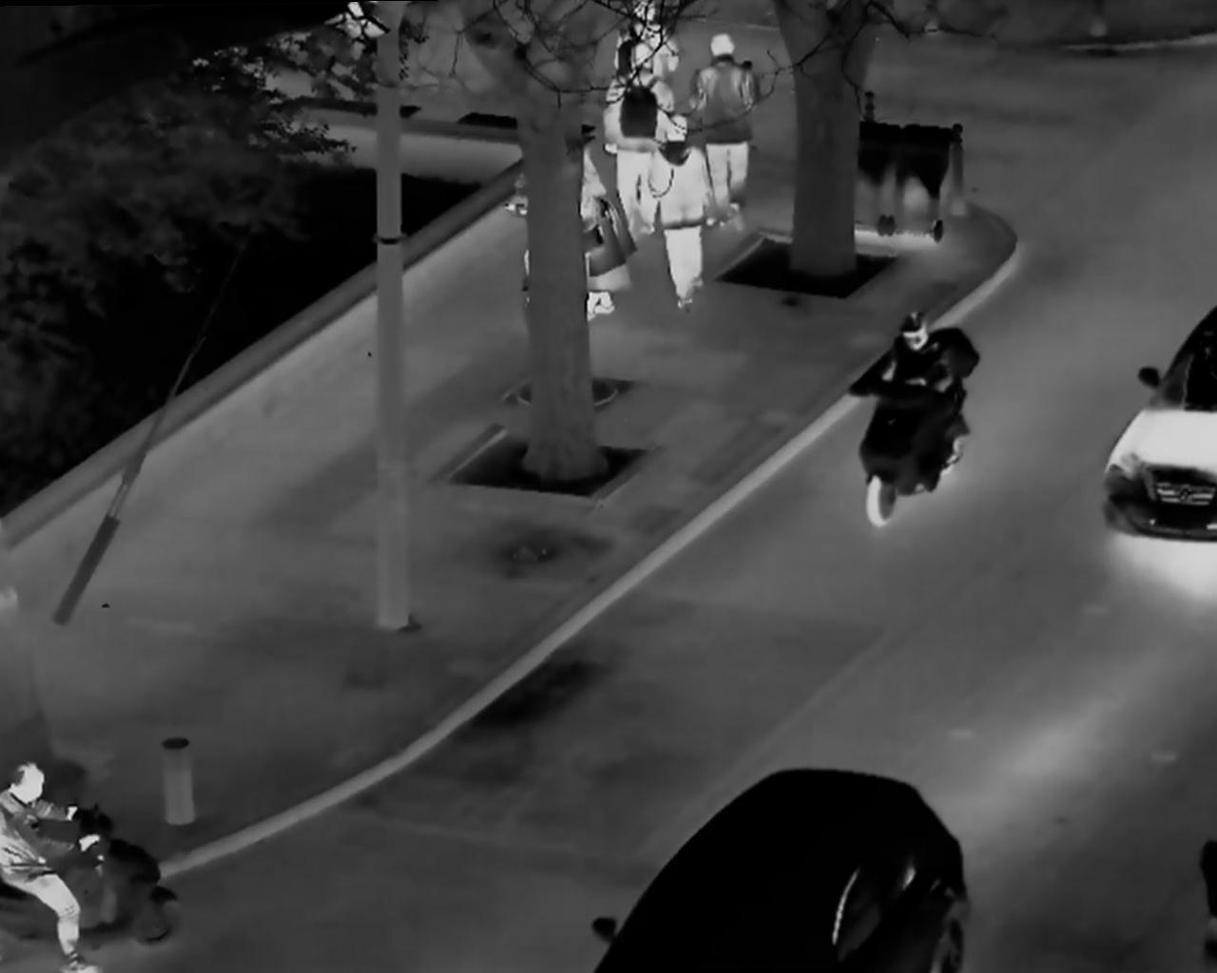person: (853, 296, 976, 517), (3, 751, 127, 962), (686, 24, 783, 216), (641, 111, 721, 315), (605, 42, 670, 238), (579, 135, 636, 328)
